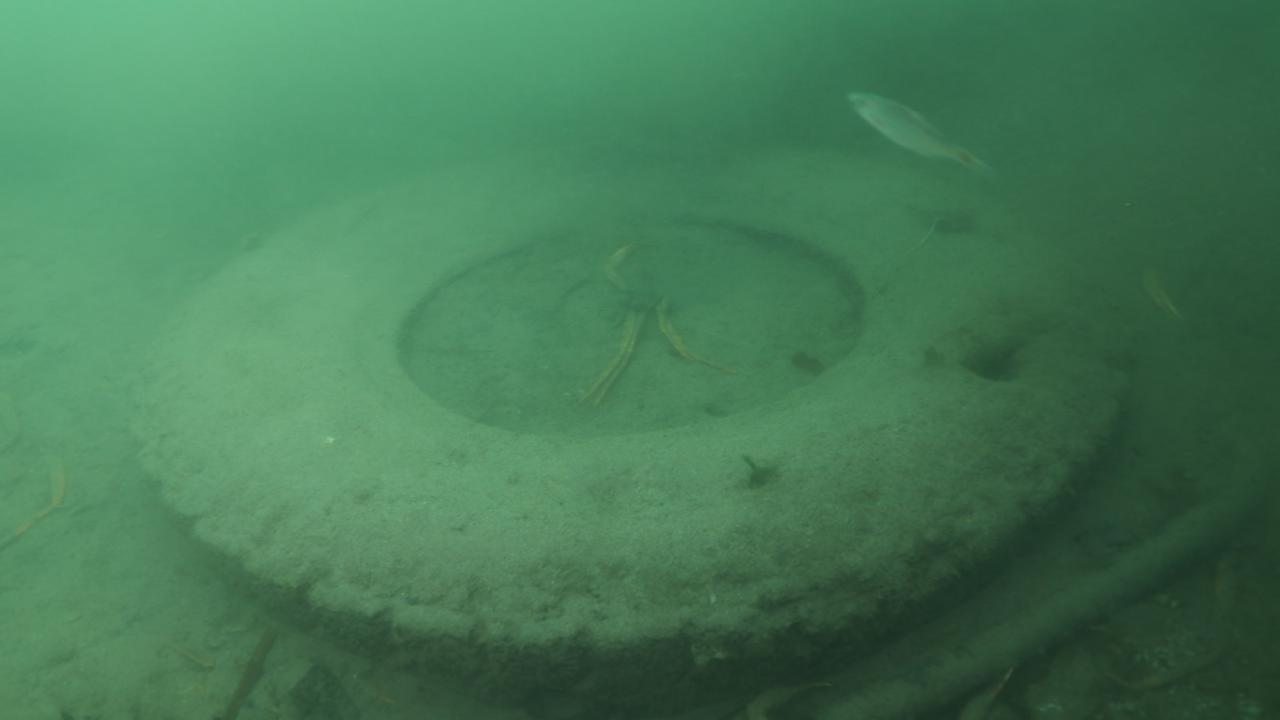tire: (128, 144, 1132, 692)
